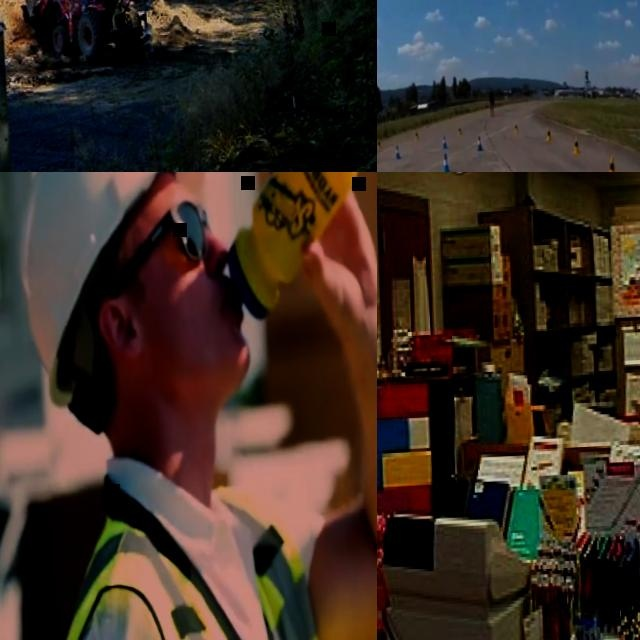Hardhat: (18, 172, 219, 413)
NO-Mask: (94, 266, 254, 408)
NO-Safety Vest: (490, 94, 495, 105)
Person: (11, 172, 377, 640), (490, 88, 496, 116)
Safety Cone: (440, 152, 452, 172), (572, 135, 581, 157), (605, 156, 617, 172), (477, 135, 485, 154), (395, 145, 402, 162), (442, 134, 449, 150), (547, 127, 553, 143), (415, 129, 421, 143), (457, 125, 464, 136), (514, 122, 520, 134), (377, 137, 382, 151)
Safety Vest: (46, 464, 331, 640)
machinery: (23, 0, 156, 64)
